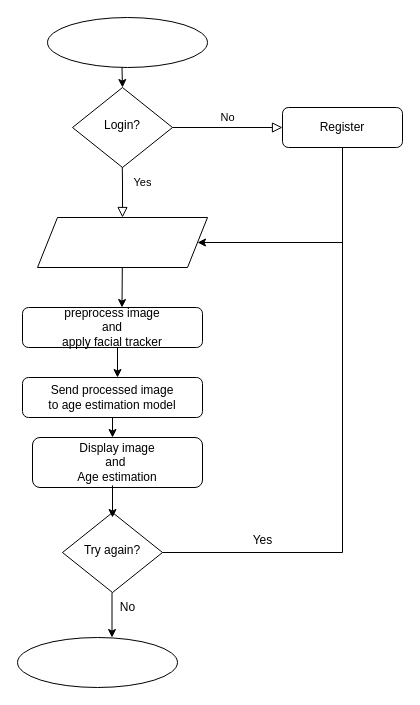
The diagram is 420 pixels wide and 705 high, and some of its shapes have lost their labels. The centre of each missing label's shape, as x and y in pixels:
"Capture Facial image or upload image" goes at (x=122, y=242).
"Start Web App" goes at (x=127, y=42).
"Stop" goes at (x=97, y=662).
